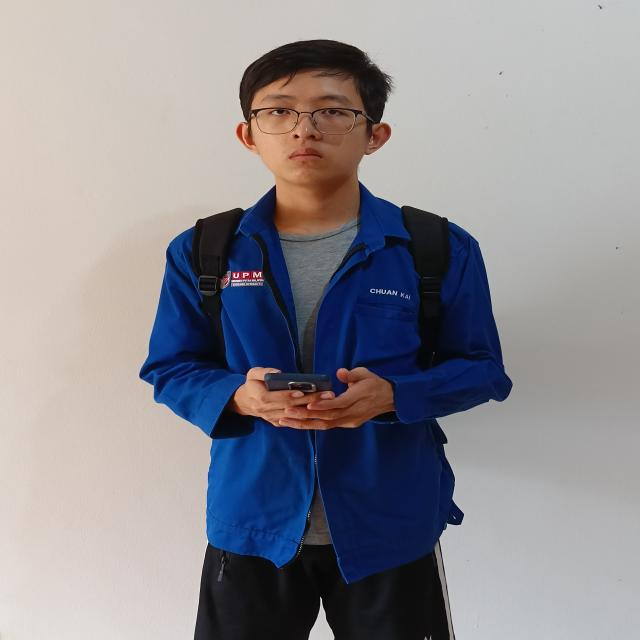person_with_labcoat: (140, 40, 511, 640)
